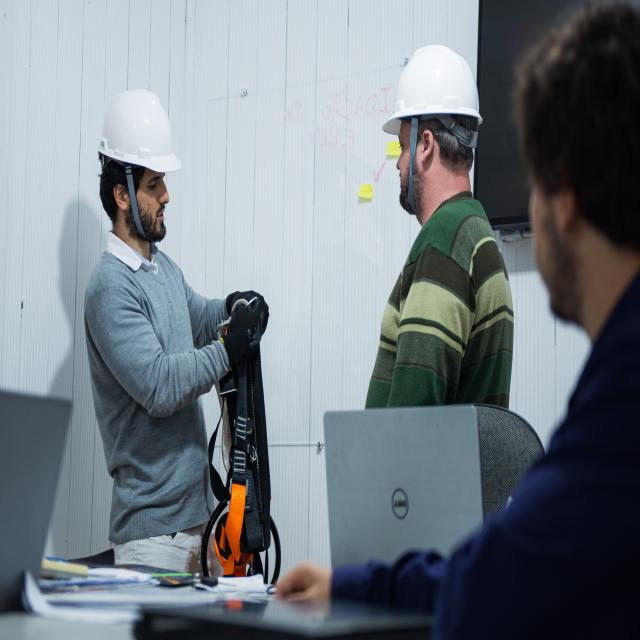capacete: (381, 43, 484, 138), (95, 87, 183, 175)
luva: (220, 295, 269, 372)
